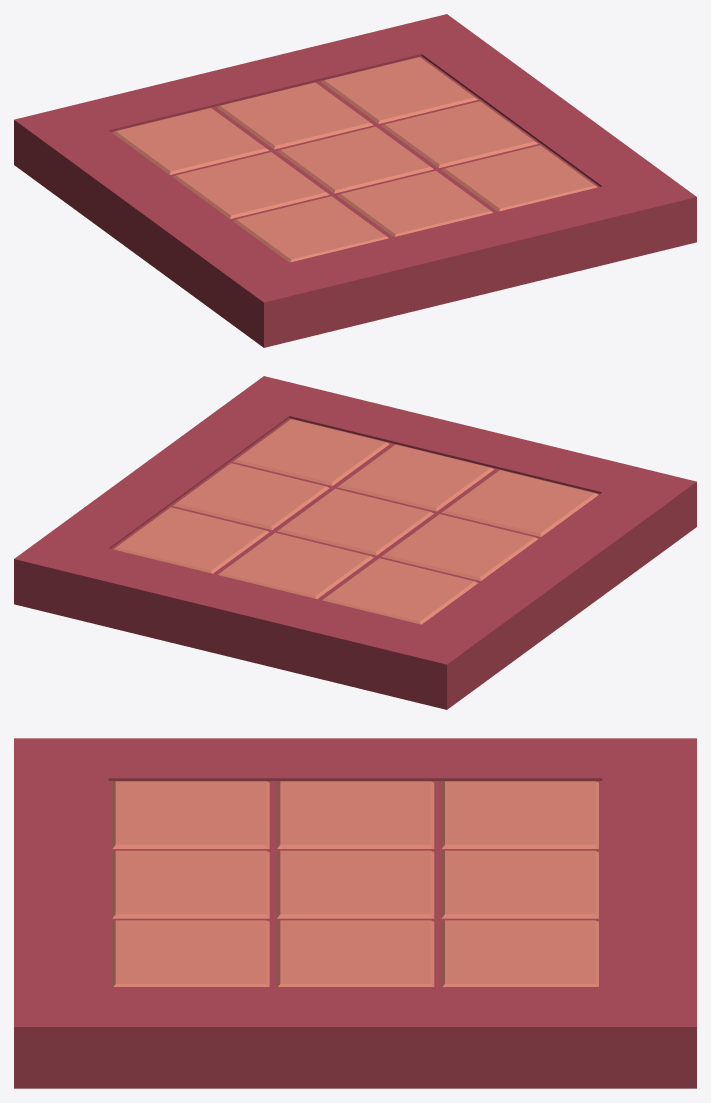
Rendered from floor12.glb.
The picture shows the model from 3 angles, top to bottom: view 1: azimuth 30°, elevation 25°; view 2: azimuth 150°, elevation 25°; view 3: azimuth 270°, elevation 25°; orthographic projection. The views are drawn at different scales.
Visible parts, largest first — view 1: Floor3; view 2: Floor3; view 3: Floor3.
Part boxes in pixels (<box>): Floor3: <box>14,14,696,347</box>; Floor3: <box>14,376,696,709</box>; Floor3: <box>14,738,696,1088</box>.
Size of the model in its own units: 2 by 0.2 by 2.
1 material, 1 textured.
